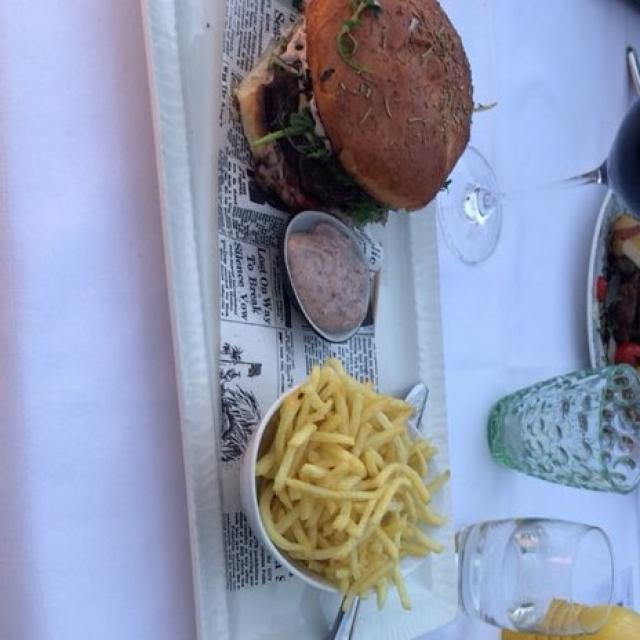chips-french-fries: (260, 366, 446, 601)
hamburger: (224, 5, 474, 211)
sauce: (292, 223, 381, 331)
